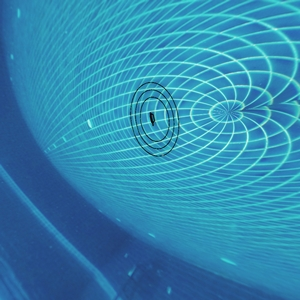circle: (113, 71, 190, 170)
submarine: (149, 116, 157, 124)
